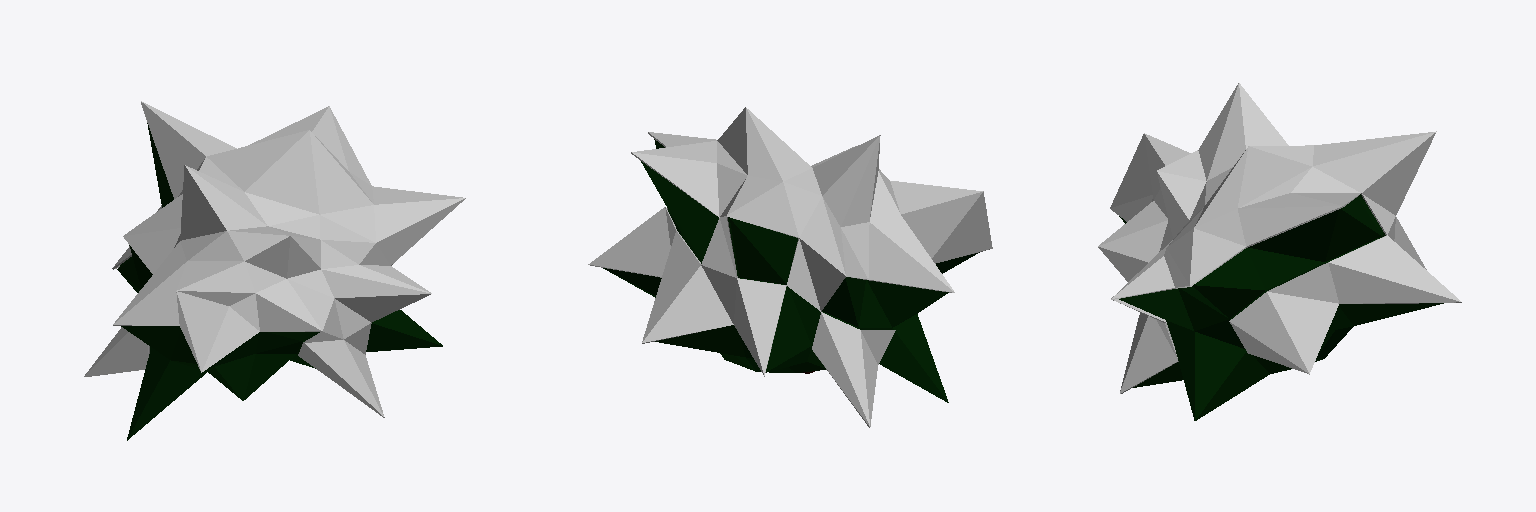
File: snowBush.obj
The picture shows the model from 3 angles: view 1: azimuth 30°, elevation 25°; view 2: azimuth 150°, elevation 25°; view 3: azimuth 270°, elevation 25°; orthographic projection.
Parts seen in each view (by area): view 1: Cube.270, Cube.269; view 2: Cube.270, Cube.269; view 3: Cube.270, Cube.269.
Boxes of the visible parts, <box> form: Cube.270: <box>84,101,465,417</box>; Cube.269: <box>117,123,442,440</box>; Cube.270: <box>588,107,992,427</box>; Cube.269: <box>603,139,979,402</box>; Cube.270: <box>1098,83,1461,393</box>; Cube.269: <box>1119,194,1443,420</box>.
Bounding box in the file's own units: 20.27 × 15.06 × 19.35.